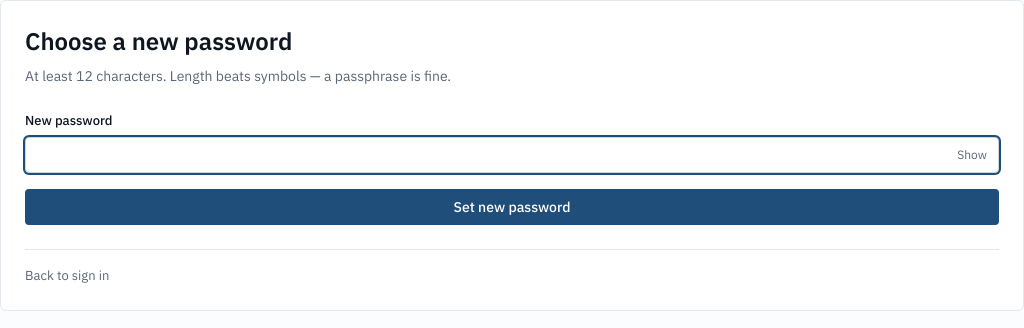
Test: ResetPasswordScreen — the four required states › LOADING: disables submit while saving
Type "correct horse battery" into the password field labelled "New password" at (512, 155), box [25,137,999,173]
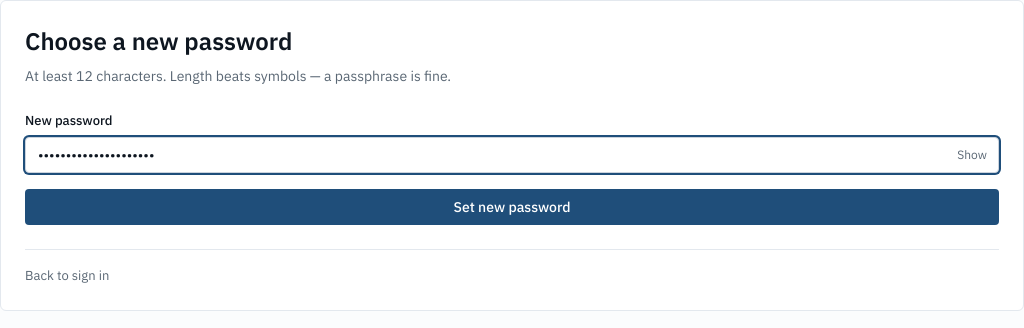
Click the button "Set new password" at (512, 207), box [25,189,999,225]
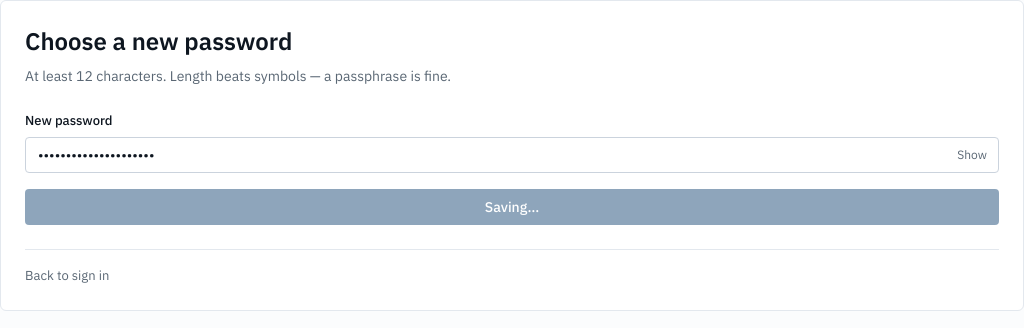
Now the button "Saving…" is disabled, box [25,189,999,225]
